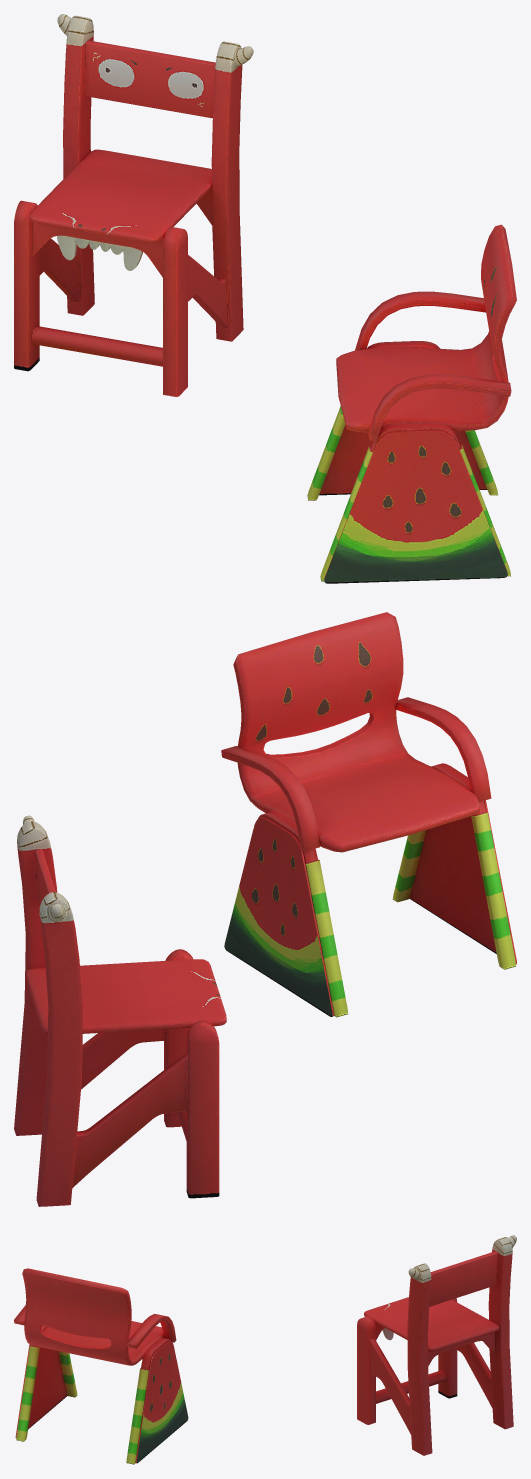
File: Chair.glb
The picture shows the model from 3 angles, top to bottom: view 1: azimuth 30°, elevation 25°; view 2: azimuth 150°, elevation 25°; view 3: azimuth 270°, elevation 25°; orthographic projection. The views are drawn at different scales.
Visible parts, largest first — view 1: Chair_Export; view 2: Chair_Export; view 3: Chair_Export.
Part boxes in pixels (left/top/right/bottom): Chair_Export: left=14, top=14, right=516, bottom=583; Chair_Export: left=14, top=612, right=516, bottom=1206; Chair_Export: left=14, top=1235, right=516, bottom=1464.
Size of the model in its own units: 0.8613 by 1 by 2.44.
Materials: 1 (1 with a texture image).
